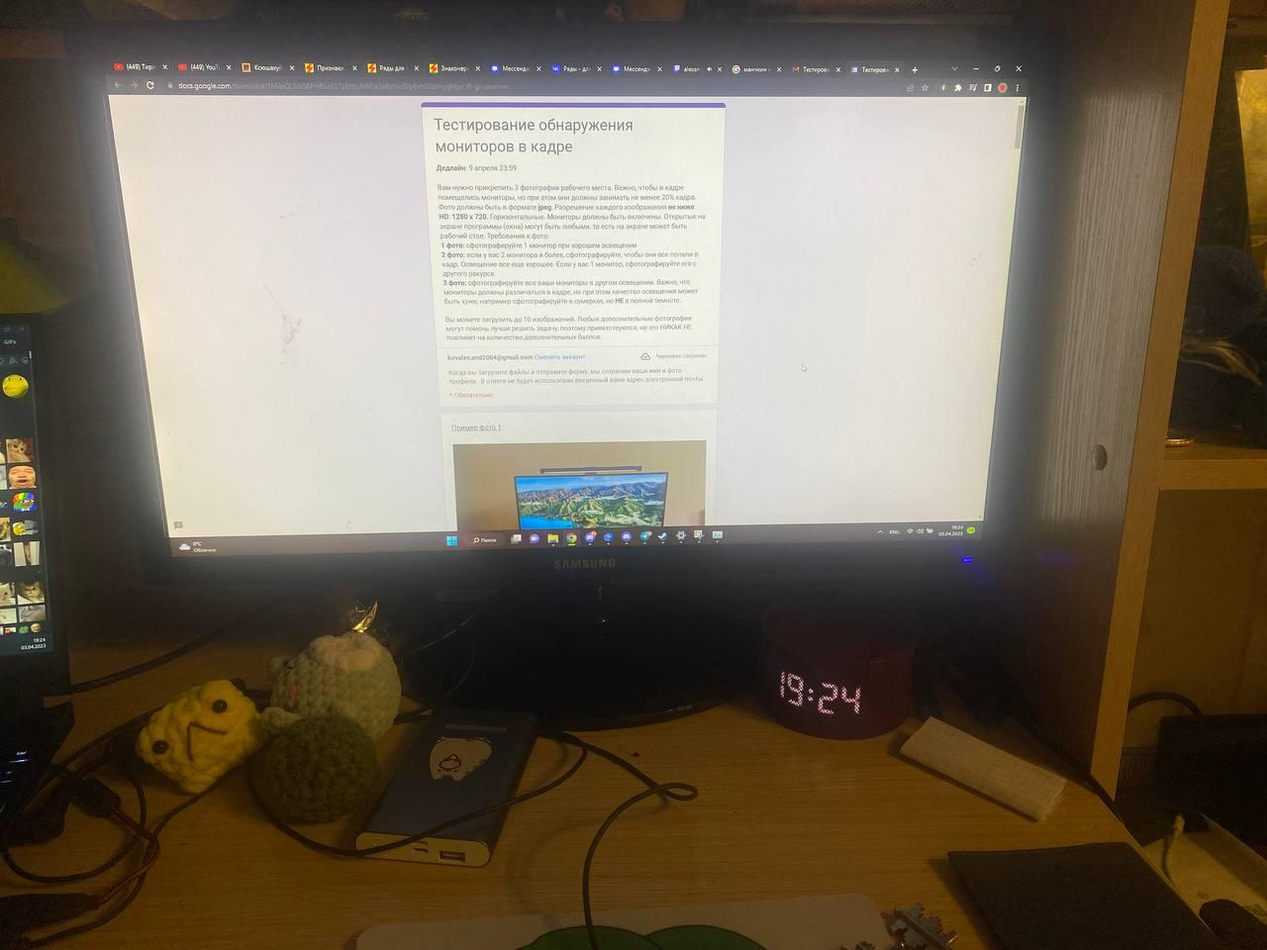monitor: (71, 18, 1072, 604)
